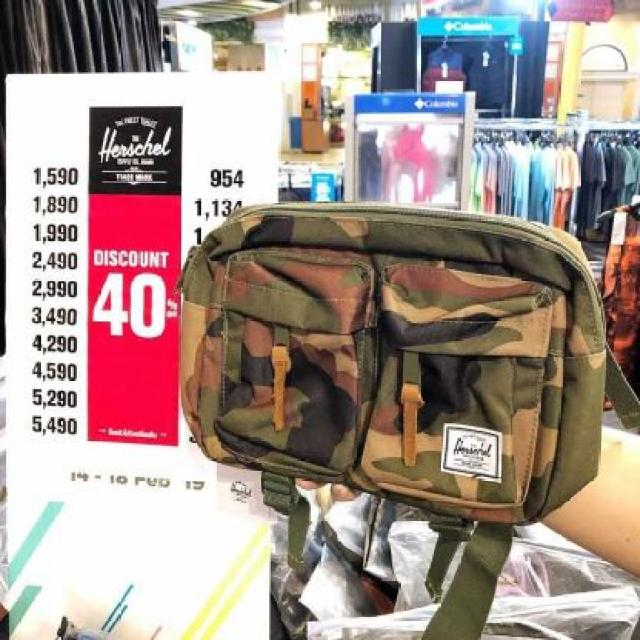Bag: (144, 151, 604, 640)
